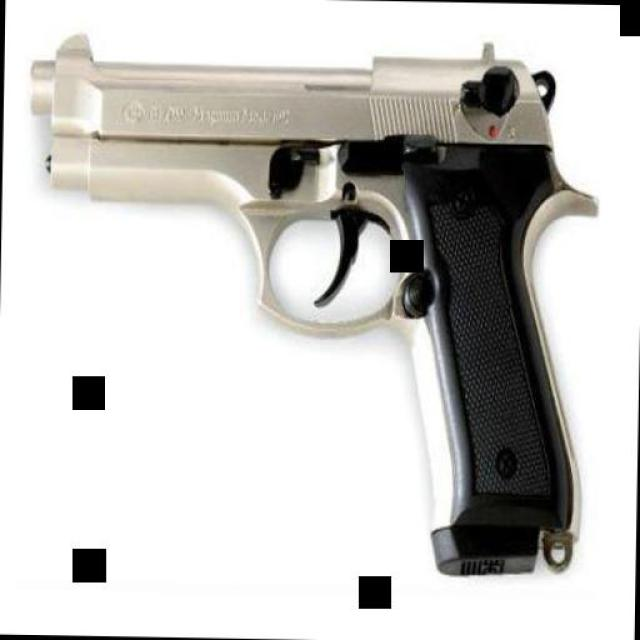gun: (18, 26, 602, 580)
